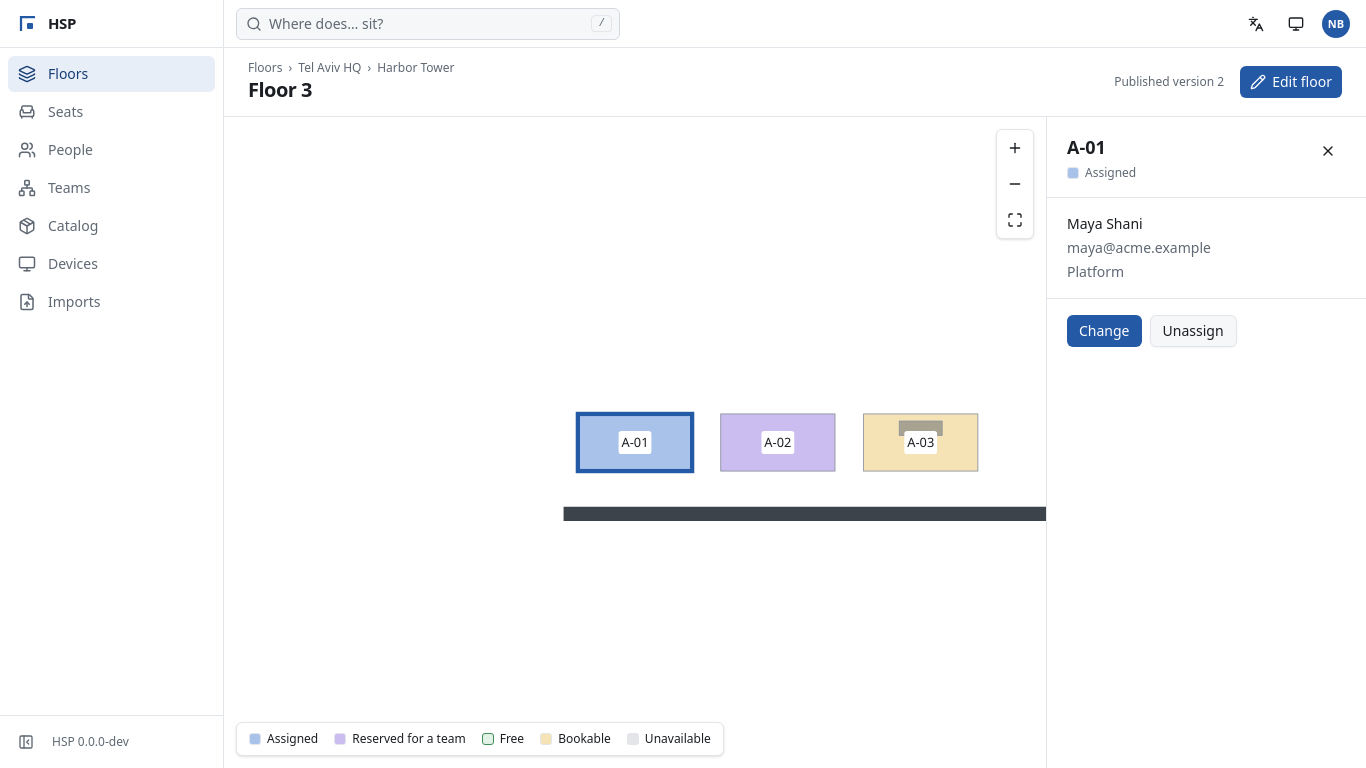
assigning seats on the plan (docs/0088) › freeing a seat offers Undo; viewers see no seat actions
This screenshot has width=1366, height=768.
Click the button "Unassign".
click(1193, 331)  # box [1150, 315, 1236, 347]
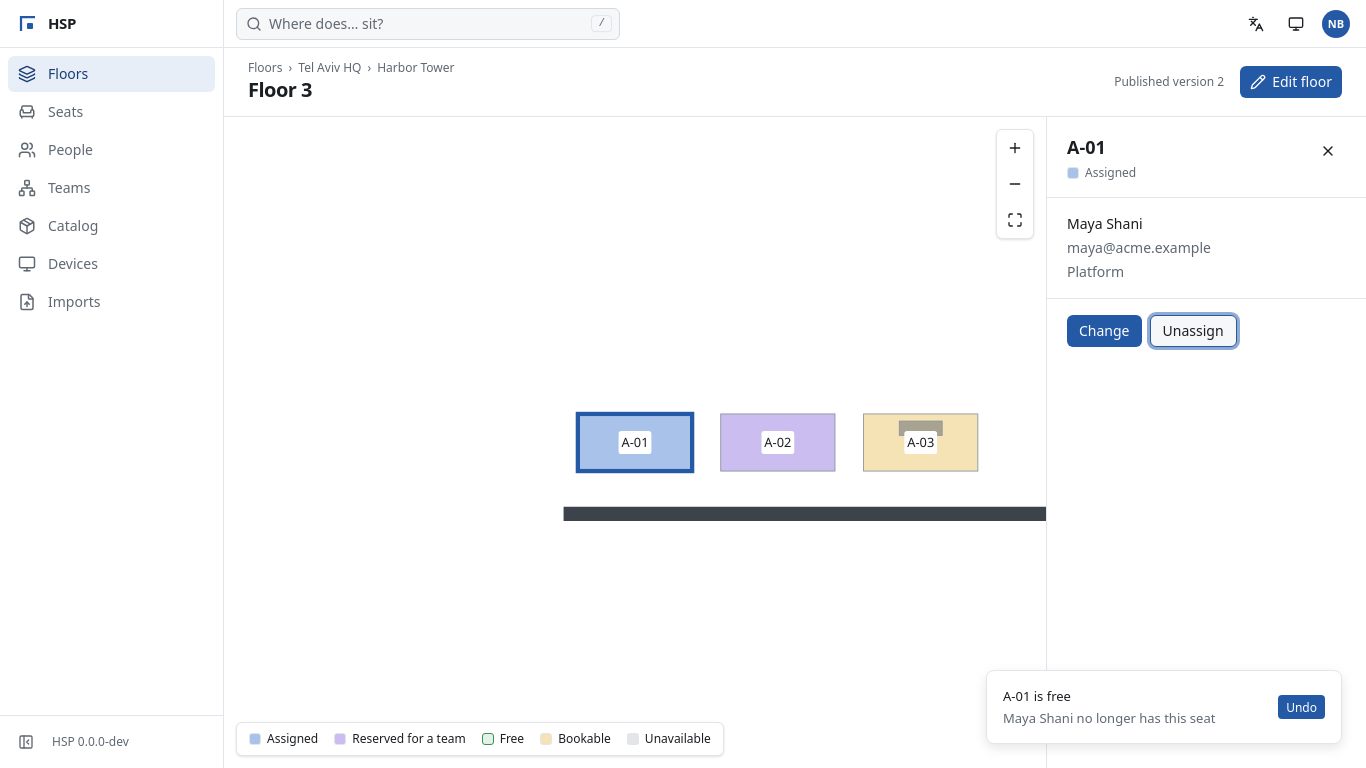
Check: the text "A-01 is free" is shown, box [1003, 687, 1071, 705]
Check: the button "Undo" is shown, box [1278, 695, 1325, 719]
